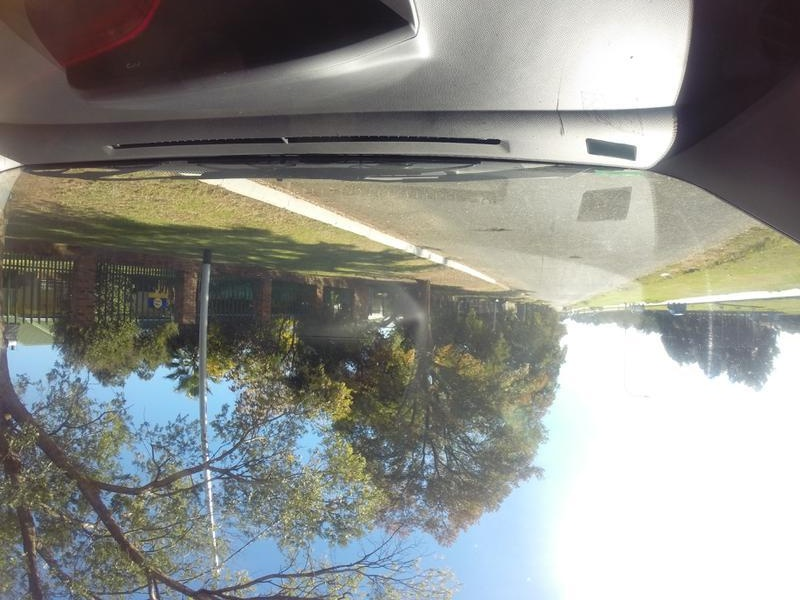pothole: (479, 220, 516, 240), (569, 250, 589, 264)
